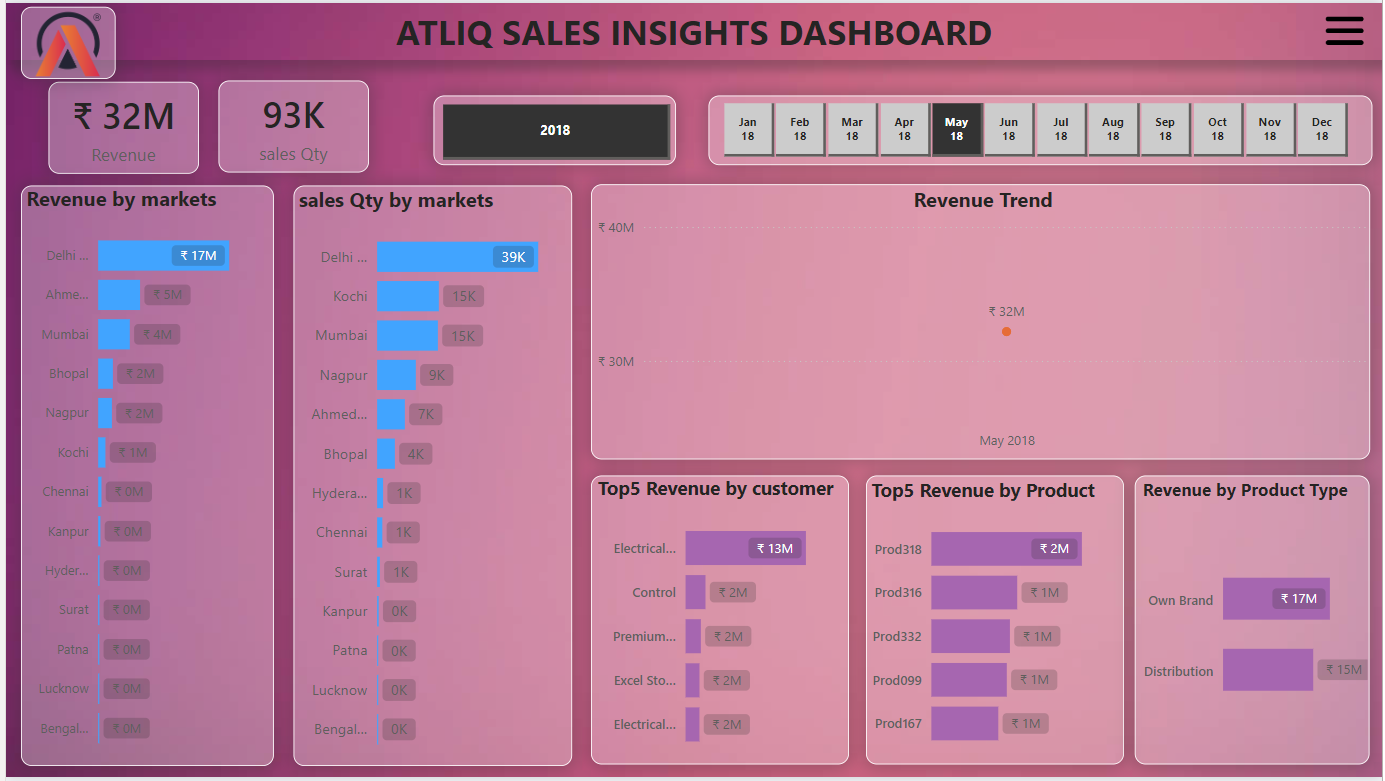

The page's visual inventory and layout, read from the dashboard file:
{"tool":"powerbi","page":{"name":"Key Insight","canvas":[1280,720],"ordinal":0},"visuals":[{"type":"textbox","box":[0,0,1280.5,53],"z":0},{"type":"image","box":[1222,2.9,46.8,45.4],"z":1000},{"type":"shape","box":[197.8,72.4,139.9,85.6],"z":6000},{"type":"shape","box":[39.8,73.6,139.9,85.6],"z":7000},{"type":"shape","box":[267.7,170.1,259.3,540.3],"z":8000},{"type":"shape","box":[14.5,170.1,235.2,540.3],"z":9000},{"type":"card","fields":{"Values":["Base Measures 2.Revenue"]},"box":[39.8,73.6,139.9,84.4],"z":10000},{"type":"card","fields":{"Values":["Base Measures 2.sales Qty"]},"box":[197.8,71.2,139.9,86.8],"z":11000},{"type":"shape","box":[14.5,3.6,88,67.5],"z":12000},{"type":"image","box":[14.5,2.4,88,71.2],"z":13000},{"type":"barChart","title":"Revenue by markets","fields":{"Category":["sales markets.markets_name"],"Y":["Base Measures 2.Revenue"]},"box":[14.5,168.8,236.4,540.3],"z":14000},{"type":"barChart","title":"sales Qty by markets","fields":{"Category":["sales markets.markets_name"],"Y":["Base Measures 2.sales Qty"]},"box":[267.7,170.1,259.3,540.3],"z":15000},{"type":"shape","box":[653.7,85.6,617.5,65.1],"z":16000},{"type":"shape","box":[398,85.6,225.5,65.1],"z":17000},{"type":"slicer","fields":{"Values":["sales date.year"]},"box":[379.9,86.8,261.7,65.1],"z":18000},{"type":"slicer","fields":{"Values":["sales date.cy_date"]},"box":[641.6,85.6,630.8,63.9],"z":19000},{"type":"shape","box":[543.9,168.8,724.8,255.7],"z":20000},{"type":"shape","box":[543.9,439,240,268.9],"z":21000},{"type":"shape","box":[799.6,439,240,268.9],"z":22000},{"type":"shape","box":[1050.5,439,218.3,268.9],"z":23000},{"type":"lineChart","title":"Revenue Trend","fields":{"Y":["Base Measures 2.Revenue"],"Category":["sales date.cy_date"]},"box":[545.1,170.1,727.2,255.7],"z":24000},{"type":"barChart","title":"Top5 Revenue by customer","fields":{"Y":["Base Measures 2.Revenue"],"Category":["sales customers.custmer_name"]},"box":[545.1,439,240,270.2],"z":25000},{"type":"barChart","title":"Top5 Revenue by Product","fields":{"Y":["Base Measures 2.Revenue"],"Category":["sales products.product_code"]},"box":[799.6,440.2,240,267.7],"z":26000},{"type":"barChart","title":"Revenue by Product Type","fields":{"Y":["Base Measures 2.Revenue"],"Category":["sales products.product_type"]},"box":[1052.9,440.2,219.5,267.7],"z":27000}]}

Visuals, with their boxes in screenshot pixels (x1, y1, x2, y2), scaled from the page's 1280x720 canvas onto the 1385x781 screenshot:
textbox: bbox=(0, 0, 1384, 57)
image: bbox=(1322, 3, 1373, 52)
shape: bbox=(214, 79, 365, 171)
shape: bbox=(43, 80, 194, 173)
shape: bbox=(290, 185, 570, 771)
shape: bbox=(16, 185, 270, 771)
card - Base Measures 2.Revenue: bbox=(43, 80, 194, 171)
card - Base Measures 2.sales Qty: bbox=(214, 77, 365, 171)
shape: bbox=(16, 4, 111, 77)
image: bbox=(16, 3, 111, 80)
"Revenue by markets" barChart: bbox=(16, 183, 271, 769)
"sales Qty by markets" barChart: bbox=(290, 185, 570, 771)
shape: bbox=(707, 93, 1375, 163)
shape: bbox=(431, 93, 675, 163)
slicer - sales date.year: bbox=(411, 94, 694, 165)
slicer - sales date.cy_date: bbox=(694, 93, 1377, 162)
shape: bbox=(589, 183, 1373, 460)
shape: bbox=(589, 476, 848, 768)
shape: bbox=(865, 476, 1125, 768)
shape: bbox=(1137, 476, 1373, 768)
"Revenue Trend" lineChart: bbox=(590, 185, 1377, 462)
"Top5 Revenue by customer" barChart: bbox=(590, 476, 850, 769)
"Top5 Revenue by Product" barChart: bbox=(865, 477, 1125, 768)
"Revenue by Product Type" barChart: bbox=(1139, 477, 1377, 768)
